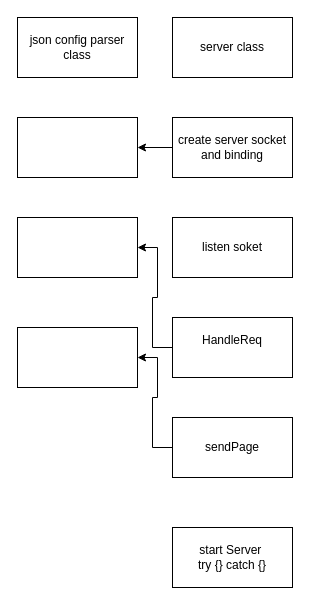
Some shapes in this 310 by 605 pixel diagram are drawn without their labels. Here are the shapes that lost their labels. From the top down, the centre of each, then its label:
At point 77,147: "getPort".
At point 77,247: "getPagesList".
At point 77,357: "getPage".
